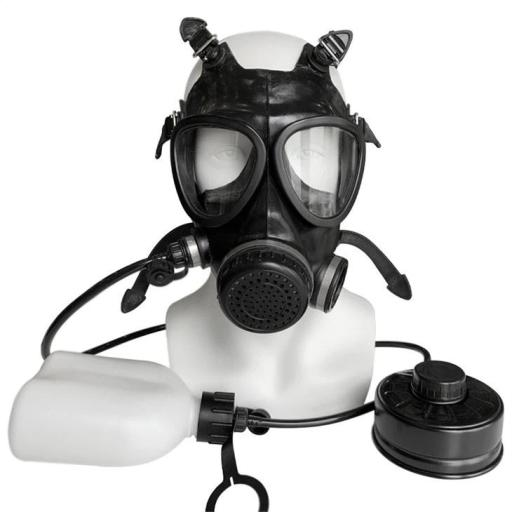mask: (145, 0, 395, 333)
